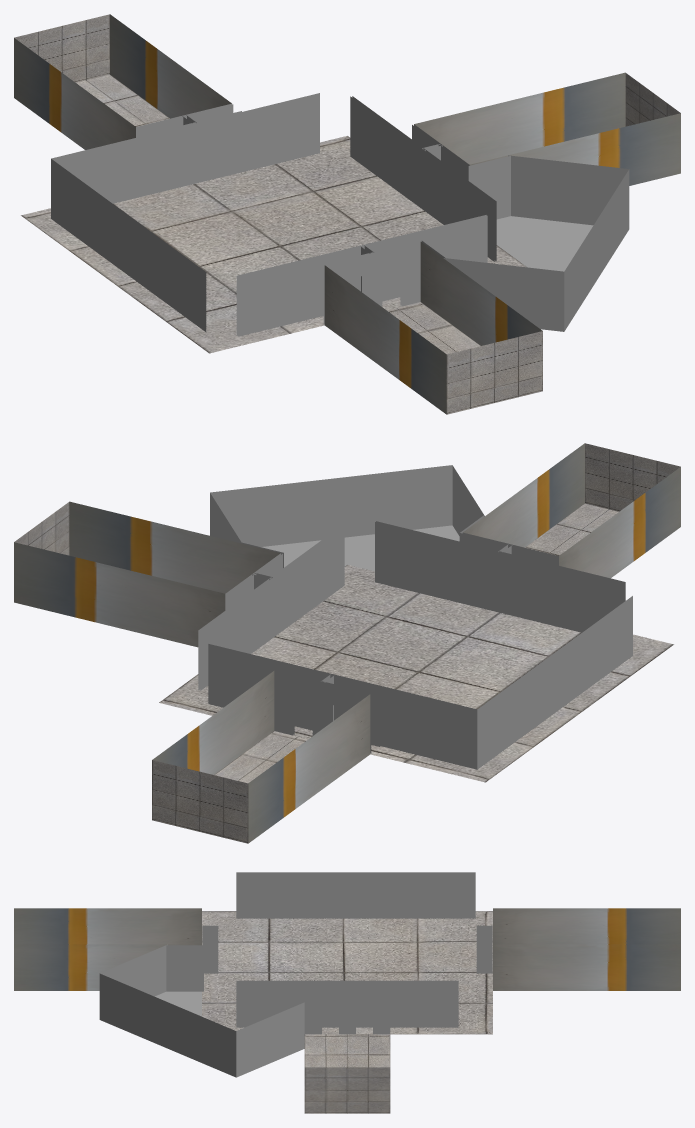
File: MuseumTestHyphenated.fbx
3 views of the same model, one above another, from view 1: azimuth 30°, elevation 25°; view 2: azimuth 150°, elevation 25°; view 3: azimuth 270°, elevation 25° (orthographic). The views are drawn at different scales.
Parts seen in each view (by area): view 1: pPlane23, pPlane4 (×3), pPlane2 (×3), pPlane21, pPlane3 (×3), pPlane20, pPlane18, pPlane22, pPlane25, pPlane26, Floor_5x10 (×2), pPlane24 (+4 smaller); view 2: pPlane23, pPlane4 (×3), pPlane2 (×3), pPlane19, pPlane24, pPlane3 (×3), pPlane20, pPlane21, pPlane22, Floor_5x10 (×2), pPlane18, DiagonalFloorSouthEast (+4 smaller); view 3: pPlane23, pPlane2 (×2), pPlane4 (×2), pPlane20, pPlane18, pPlane24, pPlane3, pPlane25, Floor_5x10, pPlane26, pPlane27, pPlane6 (+6 smaller).
Boxes of the visible parts, x1,y1,x2,y2 form: pPlane23: (21,136,526,353); pPlane4 (×3): (14,38,625,345); pPlane2 (×3): (110,14,680,414); pPlane21: (51,93,319,203); pPlane3 (×3): (14,14,680,414); pPlane20: (51,159,206,331); pPlane18: (238,215,487,336); pPlane22: (350,96,494,261); pPlane25: (508,155,628,225); pPlane26: (443,258,564,331); Floor_5x10 (×2): (76,74,480,354); pPlane24: (564,169,629,331); pPlane23: (159,565,673,782); pPlane4 (×3): (14,443,584,843); pPlane2 (×3): (69,467,680,774); pPlane19: (375,522,624,632); pPlane24: (210,465,452,546); pPlane3 (×3): (14,443,680,843); pPlane20: (477,596,632,769); pPlane21: (208,644,477,769); pPlane22: (200,525,344,690); Floor_5x10 (×2): (214,503,618,783); pPlane18: (284,663,380,746); DiagonalFloorSouthEast: (261,525,459,571); pPlane23: (202,911,492,1034); pPlane2 (×2): (14,908,680,990); pPlane4 (×2): (14,908,680,990); pPlane20: (236,872,475,918); pPlane18: (236,981,458,1027); pPlane24: (99,973,236,1077); pPlane3: (304,1067,390,1113); pPlane25: (236,1002,304,1077); Floor_5x10: (304,1034,390,1067); pPlane26: (100,944,167,996); pPlane27: (166,945,203,991); pPlane6: (304,987,321,1034).
Bounding box in the file's own units: 28 × 3 × 39.
